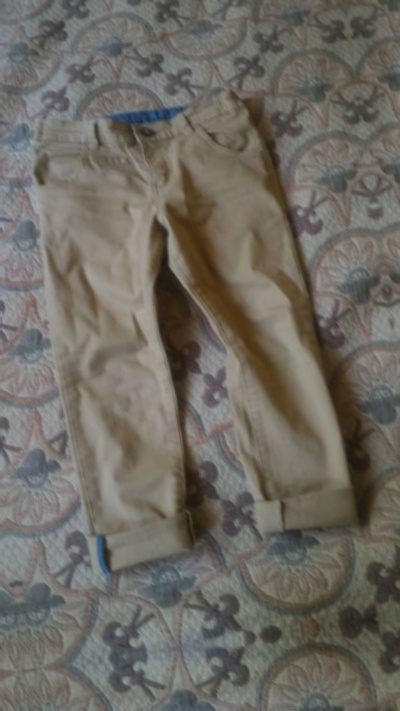Pants: (0, 31, 390, 596), (382, 0, 400, 537), (84, 685, 400, 711)
